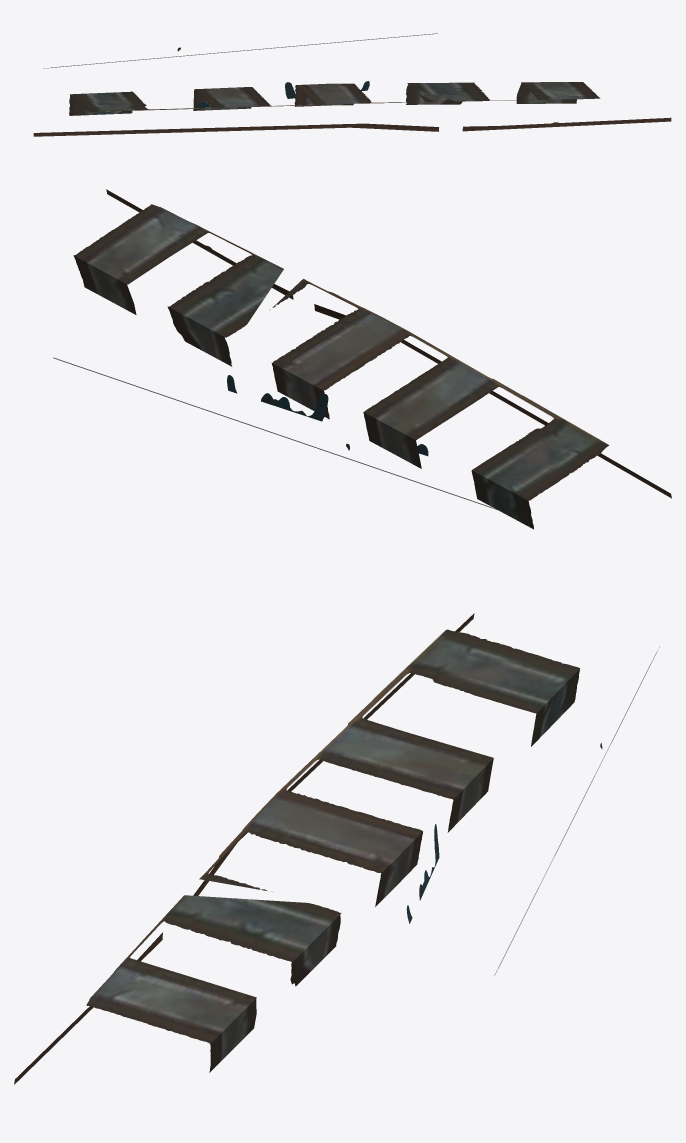
File: WuJian04.FBX
The picture shows the model from 3 angles, top to bottom: view 1: azimuth 30°, elevation 25°; view 2: azimuth 150°, elevation 25°; view 3: azimuth 270°, elevation 25°; orthographic projection. The views are drawn at different scales.
Visible parts, largest first — view 1: WuJian04; view 2: WuJian04; view 3: WuJian04.
Boxes of the visible parts, bbox=[...] form: WuJian04: bbox=[33, 33, 671, 136]; WuJian04: bbox=[53, 189, 671, 529]; WuJian04: bbox=[14, 613, 659, 1084].
Size of the model in its own units: 163 by 18.79 by 98.39.
